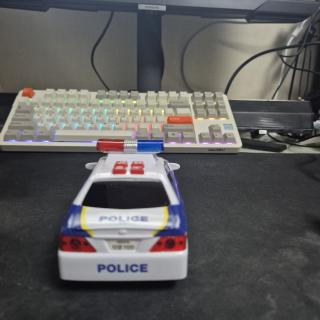Police_car: (58, 139, 188, 281)
